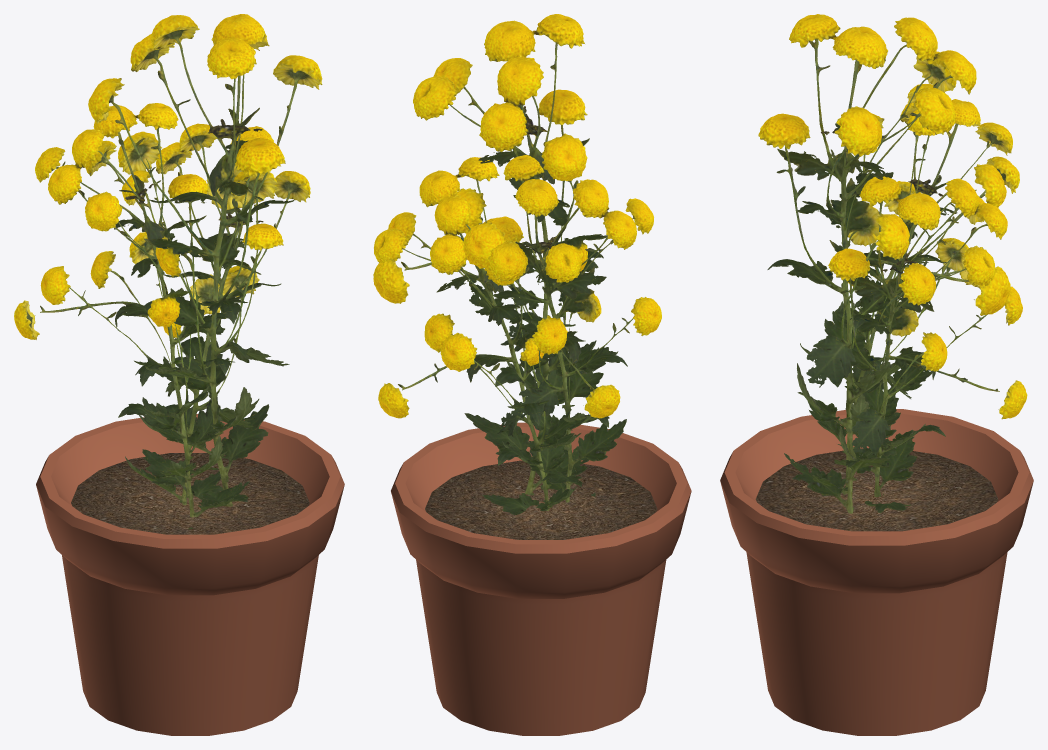
File: Room3-PompomChrysanthemum.glb
3 views of the same model, side by side, from view 1: azimuth 30°, elevation 25°; view 2: azimuth 150°, elevation 25°; view 3: azimuth 270°, elevation 25° (orthographic). The views are drawn at different scales.
Parts seen in each view (by area): view 1: Pompom Chrysanthemum.001; view 2: Pompom Chrysanthemum.001; view 3: Pompom Chrysanthemum.001.
Part boxes in pixels (x1,y1,x2,y2): Pompom Chrysanthemum.001: (14, 14, 344, 735); Pompom Chrysanthemum.001: (373, 14, 691, 735); Pompom Chrysanthemum.001: (720, 14, 1033, 735).
Bounding box in the file's own units: 1.35 × 3.28 × 1.34.
Materials: 2 (2 with a texture image).
